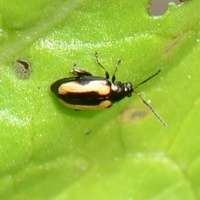insect: (50, 52, 166, 125)
